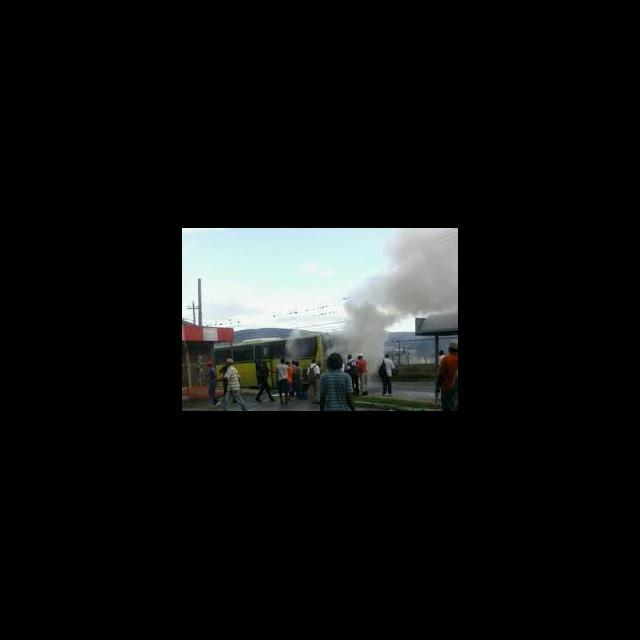Smoke: (339, 228, 457, 372)
